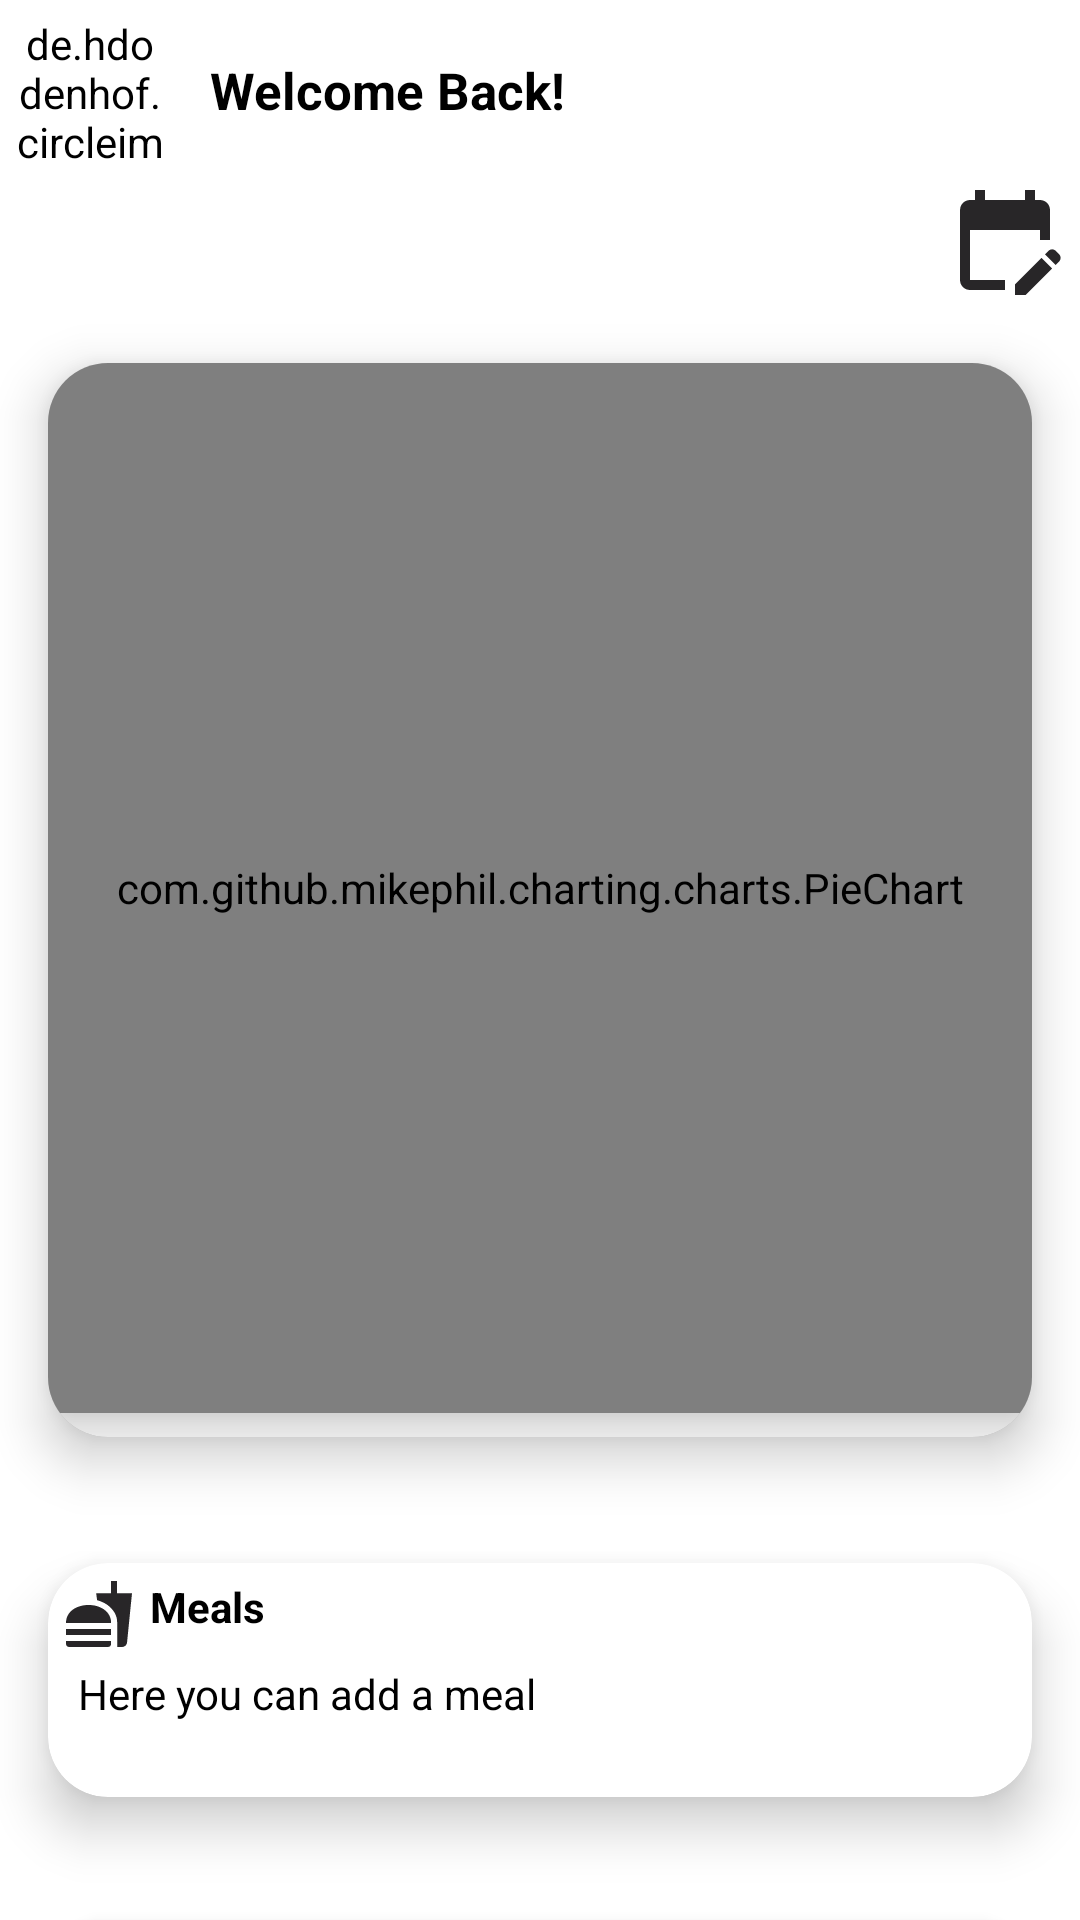

Locate icon controls on the screen. Image size 1080 × 1920, boxes as [x1,y1,x2,y2].
edit calendar: [960,190,1061,295]
